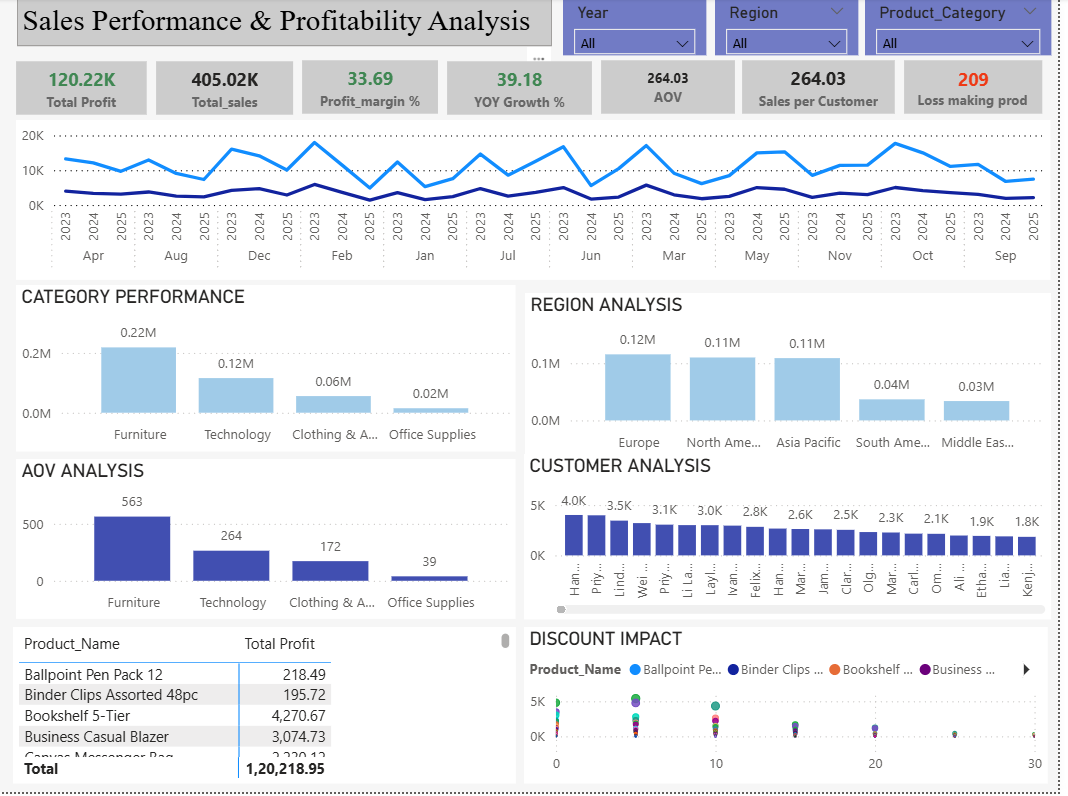

The dashboard page shown, as its layout file describes it:
{"tool":"powerbi","page":{"name":"Page 1","canvas":[960,720],"ordinal":0},"visuals":[{"type":"textbox","box":[15.4,0,485.1,43.5],"z":0},{"type":"cardVisual","fields":{"Data":["global_ecommerce_sales.Total Profit"]},"box":[11.8,52.4,127,58],"z":1000},{"type":"cardVisual","fields":{"Data":["global_ecommerce_sales.Total_sales"]},"box":[138.7,52.1,132.4,58],"z":2000},{"type":"cardVisual","fields":{"Data":["global_ecommerce_sales.Profit_margin"]},"box":[271.1,51.9,131.5,58],"z":3000},{"type":"cardVisual","fields":{"Data":["global_ecommerce_sales.Sales per Customer"]},"box":[670.1,51.7,146.9,58],"z":4000},{"type":"cardVisual","fields":{"Data":["global_ecommerce_sales.YOY Growth %"]},"box":[402.6,52.6,139.6,58],"z":5000},{"type":"cardVisual","fields":{"Data":["Sum(global_ecommerce_sales.Loss Making Products)"]},"box":[817,51.7,133.3,58],"z":6000},{"type":"cardVisual","fields":{"Data":["global_ecommerce_sales.Average order value"]},"box":[542.3,51.7,129.7,58],"z":7000},{"type":"lineChart","title":"SALES & PROFIT TREND","fields":{"Category":["DATE.Month","DATE.Year"],"Y":["global_ecommerce_sales.Total_sales","global_ecommerce_sales.Total Profit"]},"box":[14.5,110.6,937.6,145.1],"z":8000},{"type":"columnChart","title":"CATEGORY PERFORMANCE","fields":{"Y":["global_ecommerce_sales.Total_sales"],"Category":["global_ecommerce_sales.Product_Category"]},"box":[14.4,260.3,453.4,150.8],"z":9000},{"type":"columnChart","title":"REGION ANALYSIS","fields":{"Y":["global_ecommerce_sales.Total_sales"],"Category":["global_ecommerce_sales.Region"]},"box":[476.1,267.5,477,150.5],"z":10000},{"type":"pivotTable","title":"LOSS-MAKING PRODUCTS","fields":{"Rows":["global_ecommerce_sales.Product_Name"],"Values":["global_ecommerce_sales.Total Profit"]},"box":[11.7,570.1,456.1,141.8],"z":11000},{"type":"columnChart","title":"CUSTOMER ANALYSIS","fields":{"Category":["global_customers.Customer_Name"],"Y":["global_ecommerce_sales.Total_sales"]},"box":[474.9,413.9,477.6,149.9],"z":12000},{"type":"scatterChart","title":"DISCOUNT IMPACT","fields":{"Y":["global_ecommerce_sales.Total Profit"],"X":["global_ecommerce_sales.Discount_Percent"],"Size":["global_ecommerce_sales.Total_sales"],"Series":["global_ecommerce_sales.Product_Name"]},"box":[474.9,570.1,474.9,141.8],"z":13000},{"type":"columnChart","title":"AOV ANALYSIS","fields":{"Category":["global_ecommerce_sales.Product_Category"],"Y":["global_ecommerce_sales.Average order value"]},"box":[14.4,418.4,453.4,145.4],"z":14000},{"type":"slicer","fields":{"Values":["global_ecommerce_sales.Region"]},"box":[648.4,0,129.7,51.7],"z":15000},{"type":"slicer","fields":{"Values":["DATE.Year"]},"box":[510.5,0,129.7,51.7],"z":16000},{"type":"slicer","fields":{"Values":["global_ecommerce_sales.Product_Category"]},"box":[784.4,0,168.7,51.7],"z":17000}]}

Visuals, with their boxes in screenshot pixels (x1, y1, x2, y2), scaled from the page's 960x720 canvas onto the 1068x796 screenshot:
textbox: <box>17,0,557,48</box>
cardVisual - global_ecommerce_sales.Total Profit: <box>13,58,154,122</box>
cardVisual - global_ecommerce_sales.Total_sales: <box>154,58,302,122</box>
cardVisual - global_ecommerce_sales.Profit_margin: <box>302,57,448,122</box>
cardVisual - global_ecommerce_sales.Sales per Customer: <box>745,57,909,121</box>
cardVisual - global_ecommerce_sales.YOY Growth %: <box>448,58,603,122</box>
cardVisual - Sum(global_ecommerce_sales.Loss Making Products): <box>909,57,1057,121</box>
cardVisual - global_ecommerce_sales.Average order value: <box>603,57,748,121</box>
"SALES & PROFIT TREND" lineChart: <box>16,122,1059,283</box>
"CATEGORY PERFORMANCE" columnChart: <box>16,288,520,454</box>
"REGION ANALYSIS" columnChart: <box>530,296,1060,462</box>
"LOSS-MAKING PRODUCTS" pivotTable: <box>13,630,520,787</box>
"CUSTOMER ANALYSIS" columnChart: <box>528,458,1060,623</box>
"DISCOUNT IMPACT" scatterChart: <box>528,630,1057,787</box>
"AOV ANALYSIS" columnChart: <box>16,463,520,623</box>
slicer - global_ecommerce_sales.Region: <box>721,0,866,57</box>
slicer - DATE.Year: <box>568,0,712,57</box>
slicer - global_ecommerce_sales.Product_Category: <box>873,0,1060,57</box>
